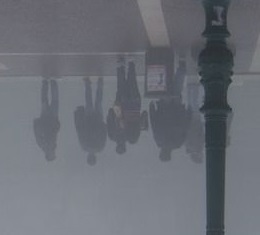person: (151, 60, 188, 165), (74, 75, 107, 167), (116, 59, 150, 143), (33, 77, 61, 165), (183, 79, 206, 165), (105, 103, 128, 155)
